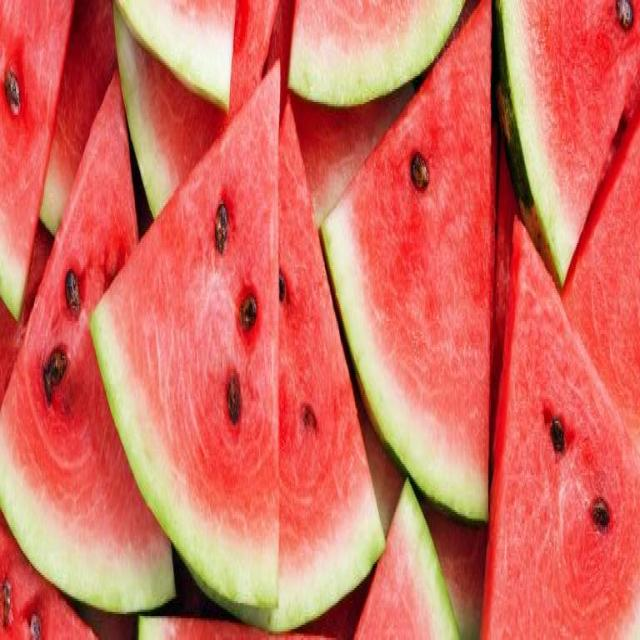watermelon: (92, 53, 287, 624), (2, 60, 180, 620), (318, 0, 496, 528), (242, 81, 389, 612), (469, 203, 640, 640), (490, 0, 639, 300)
